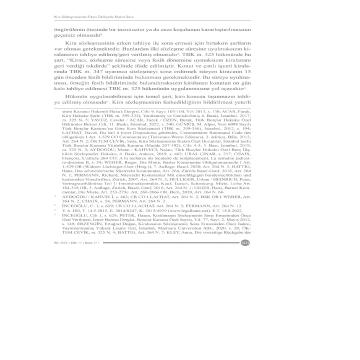footer: (62, 109, 254, 237)
header: (52, 12, 136, 20)
